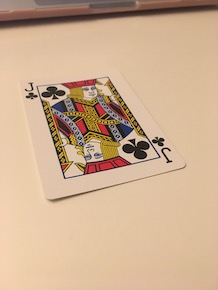JackOfClubs: (13, 63, 188, 206)
